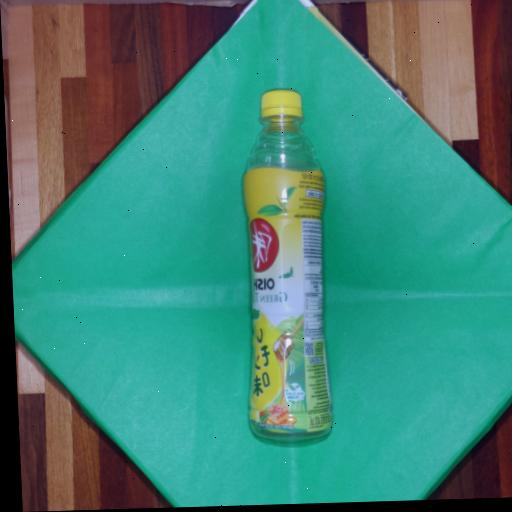bottle: (243, 91, 330, 439)
